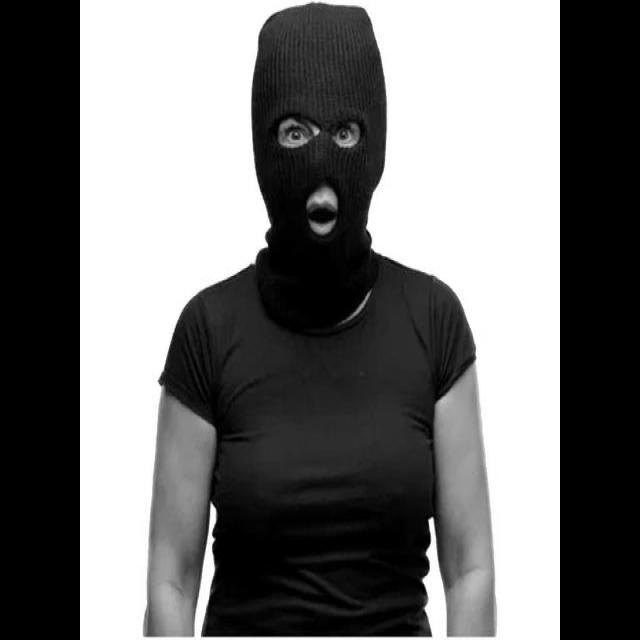6_pasamontana: (250, 6, 386, 328)
